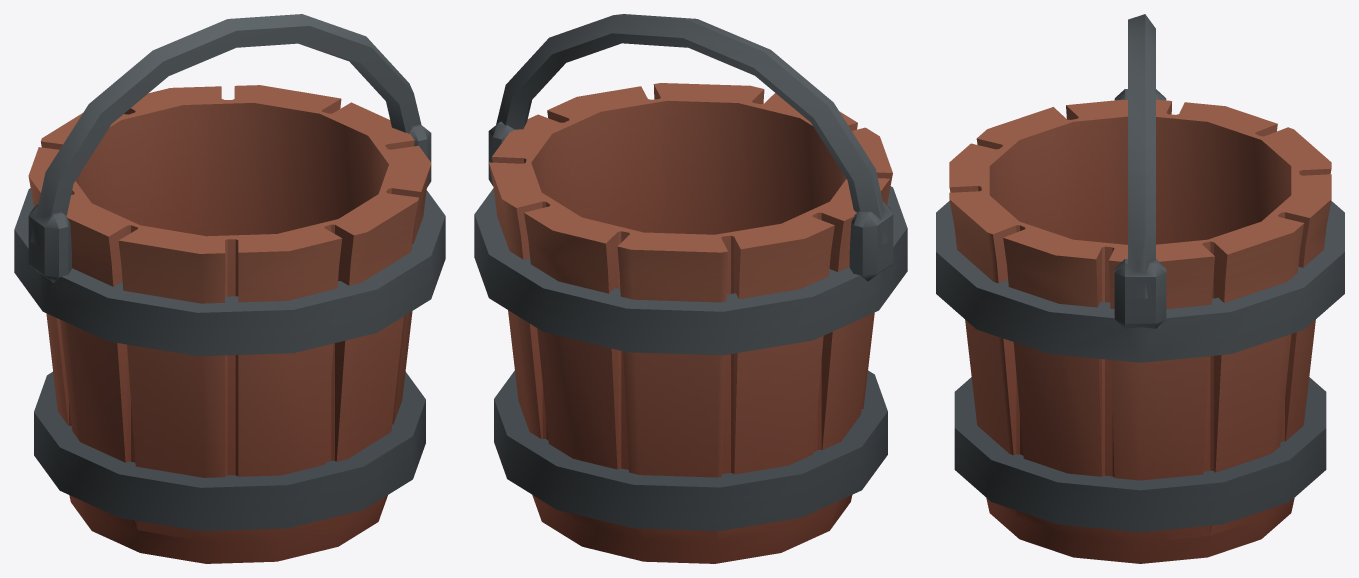
The model's file is bucket.glb.
3 views of the same model, side by side, from view 1: azimuth 30°, elevation 25°; view 2: azimuth 150°, elevation 25°; view 3: azimuth 270°, elevation 25° (orthographic). The views are drawn at different scales.
Parts seen in each view (by area): view 1: bucket; view 2: bucket; view 3: bucket.
Part boxes in pixels (x1,y1,x2,y2): bucket: (14,14,445,563); bucket: (474,14,907,563); bucket: (936,14,1344,563).
Bounding box in the file's own units: 0.8556 × 0.9885 × 0.7925.
1 material, 1 textured.
